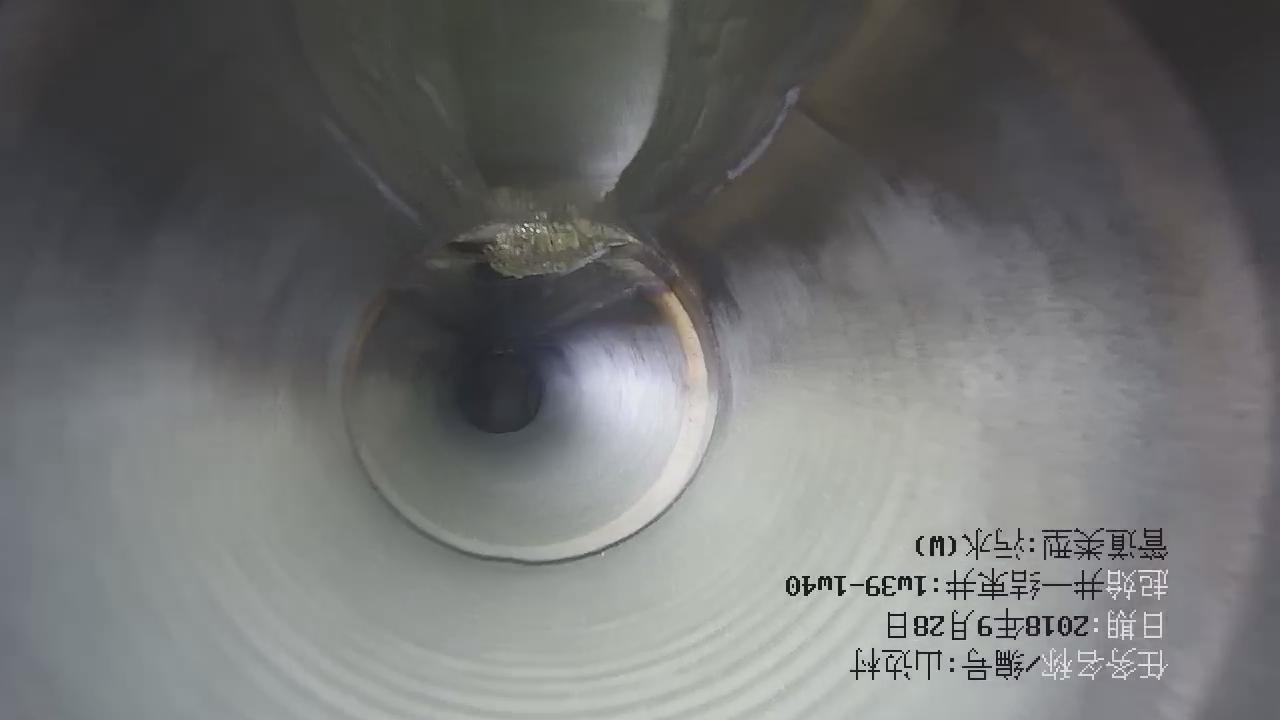CKTJ: (334, 232, 731, 575)
